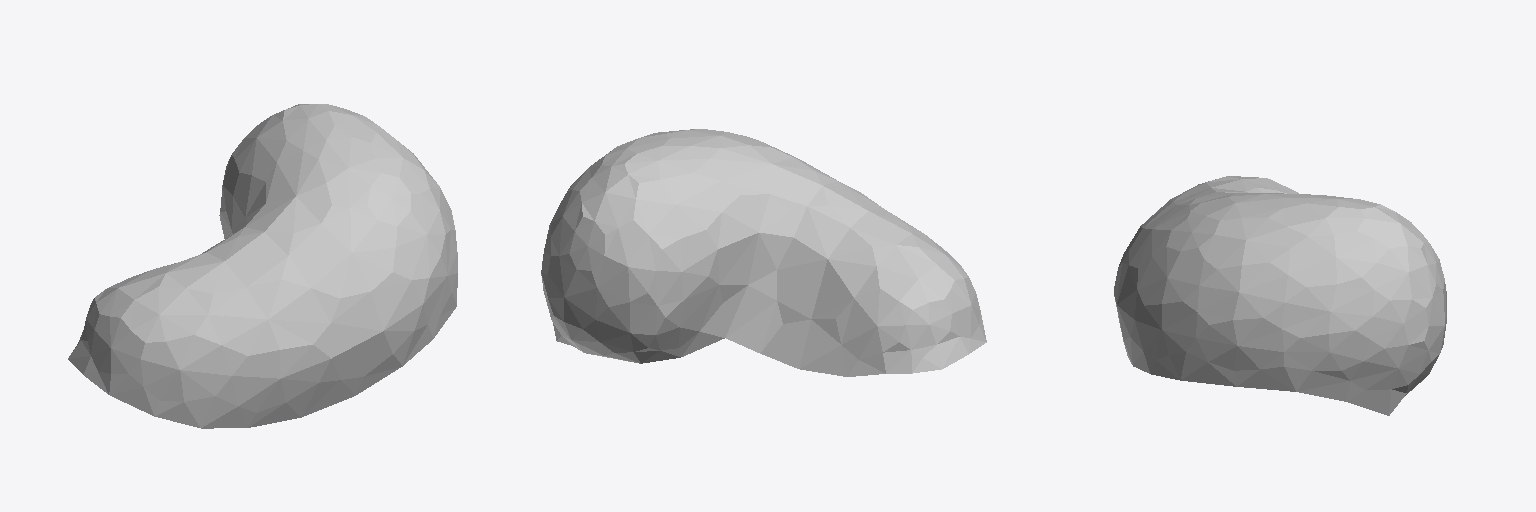
The model's file is stomac.obj.
3 renders of one model, left to right at view 1: azimuth 30°, elevation 25°; view 2: azimuth 150°, elevation 25°; view 3: azimuth 270°, elevation 25°, orthographic.
Parts seen in each view (by area): view 1: stomac_Default.005; view 2: stomac_Default.005; view 3: stomac_Default.005.
Boxes of the visible parts, x1=… form: stomac_Default.005: x1=68, y1=104, x2=457, y2=428; stomac_Default.005: x1=541, y1=129, x2=986, y2=376; stomac_Default.005: x1=1114, y1=176, x2=1446, y2=415.
Bounding box in the file's own units: 0.1603 × 0.0811 × 0.1239.